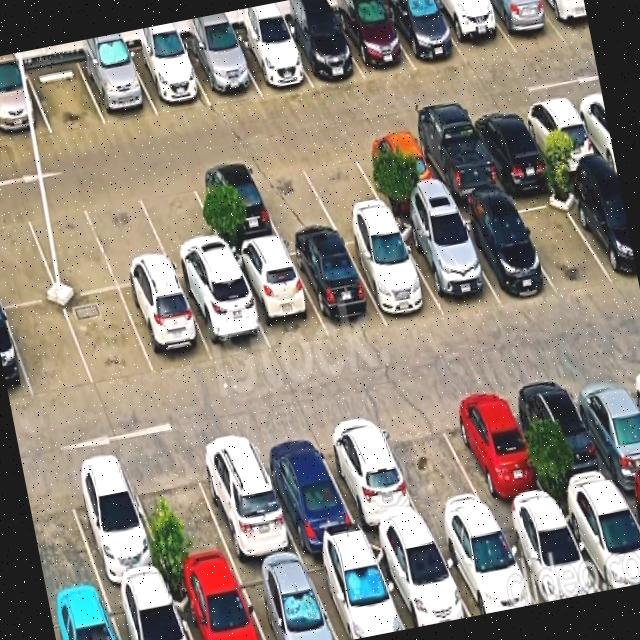empty: (372, 398, 494, 531), (125, 450, 236, 581), (506, 183, 615, 291), (25, 470, 103, 604), (135, 173, 230, 278), (23, 196, 118, 298), (83, 187, 175, 288), (63, 289, 155, 387), (4, 301, 94, 399), (247, 152, 336, 236), (298, 142, 387, 224), (26, 59, 106, 134), (0, 206, 58, 308)
occupied: (189, 431, 301, 567), (438, 386, 554, 517), (312, 412, 428, 538), (61, 459, 169, 592), (251, 426, 362, 554), (511, 373, 620, 503), (395, 212, 501, 316), (449, 200, 554, 304), (230, 242, 328, 353), (285, 231, 386, 337), (340, 222, 444, 323), (496, 507, 600, 604), (433, 519, 536, 616), (303, 544, 405, 640), (369, 534, 471, 629), (564, 364, 640, 489), (120, 279, 214, 375), (178, 269, 271, 362), (562, 174, 639, 284), (235, 559, 338, 640), (558, 491, 640, 591), (408, 119, 503, 205), (190, 163, 281, 250), (353, 131, 445, 210), (467, 106, 554, 187), (332, 0, 416, 81), (518, 96, 604, 175), (169, 571, 264, 640), (281, 13, 365, 88), (381, 0, 467, 71), (77, 51, 158, 125), (128, 44, 211, 116), (231, 26, 313, 96), (430, 0, 517, 65), (183, 36, 260, 106), (106, 583, 191, 640), (483, 0, 566, 53), (0, 69, 52, 144), (0, 306, 33, 404), (50, 595, 121, 640), (539, 0, 591, 43)
